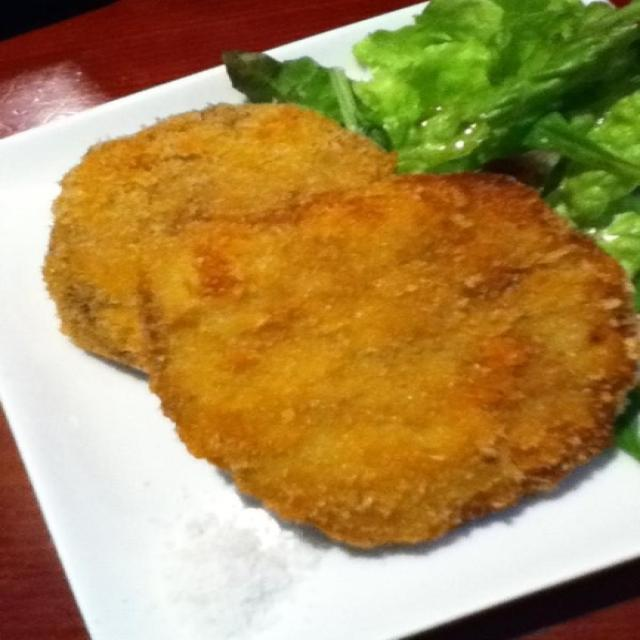炸货点心: (1, 4, 632, 636)
